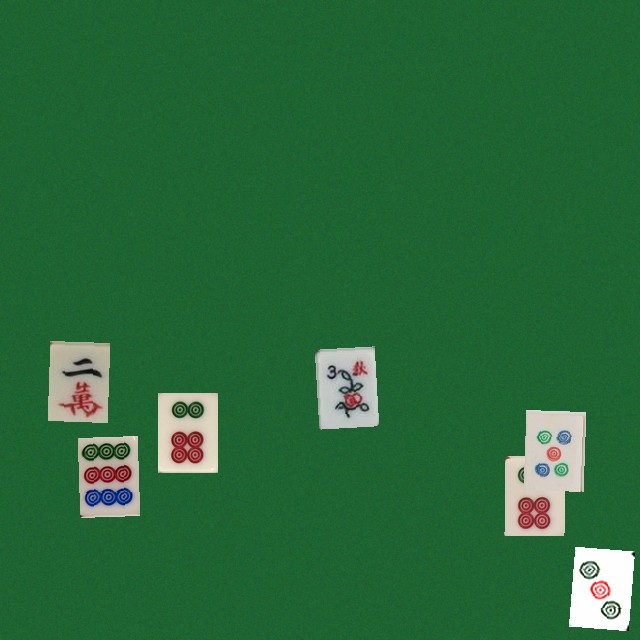tile: (504, 455, 564, 535), (157, 392, 217, 472), (77, 436, 137, 516), (568, 546, 628, 626), (523, 409, 583, 489), (314, 346, 374, 426), (47, 340, 107, 420)
